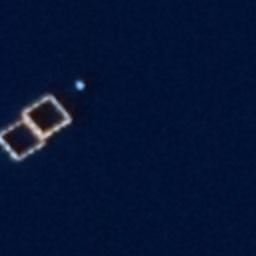square_solid: (20, 93, 74, 143), (1, 118, 48, 164)
